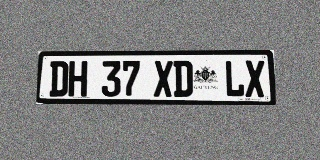3: (102, 61, 121, 97)
7: (121, 61, 140, 97)
D: (49, 61, 69, 97), (173, 61, 193, 97)
H: (68, 61, 87, 97)
L: (224, 60, 245, 97)
X: (245, 60, 265, 97), (154, 61, 173, 97)
